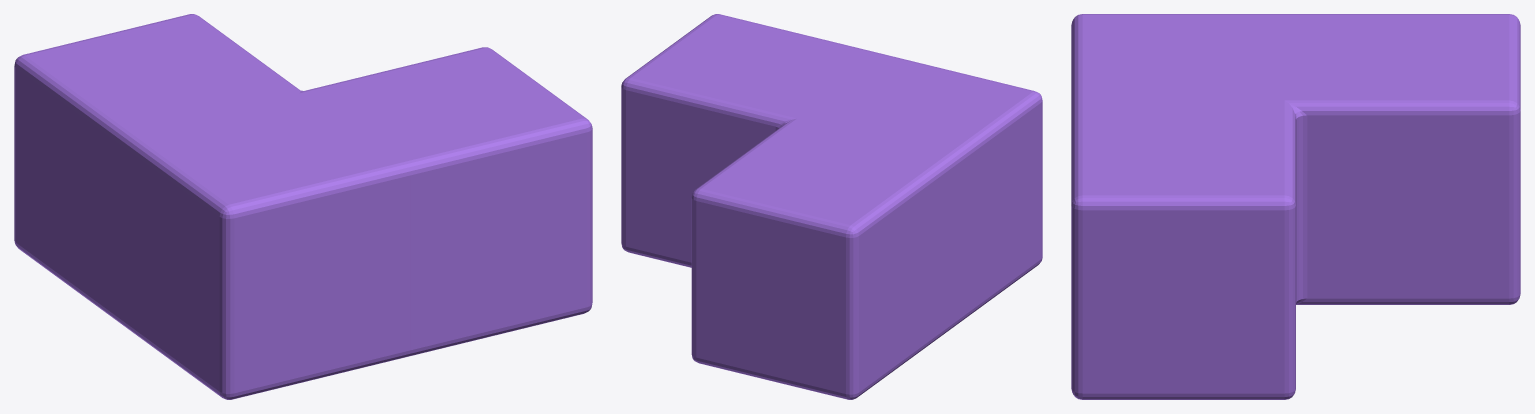
3 renders of one model, left to right at view 1: azimuth 30°, elevation 25°; view 2: azimuth 150°, elevation 25°; view 3: azimuth 270°, elevation 25°, orthographic. The views are drawn at different scales.
Visible parts, largest first — view 1: V.001; view 2: V.001; view 3: V.001.
Part boxes in pixels (left/top/right/bottom): V.001: left=14, top=14, right=592, bottom=399; V.001: left=621, top=14, right=1042, bottom=399; V.001: left=1071, top=14, right=1520, bottom=399.
Size of the model in its own units: 4 by 2 by 4.
1 material, 1 textured.
